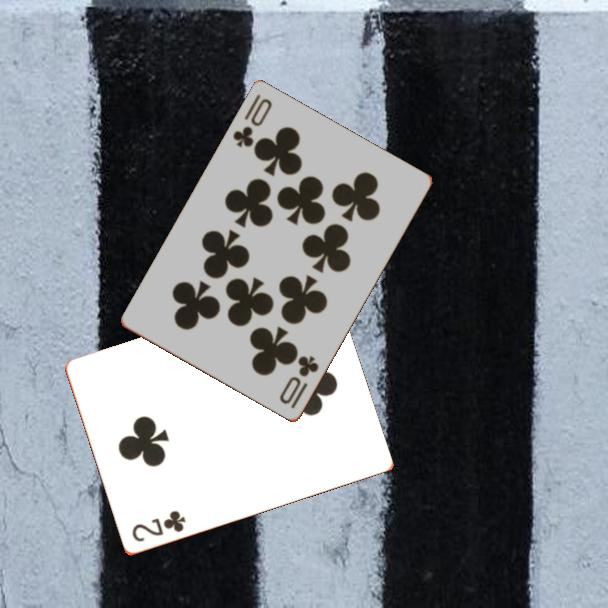c02: (128, 507, 189, 545)
c10: (276, 352, 322, 412), (229, 91, 275, 151)
